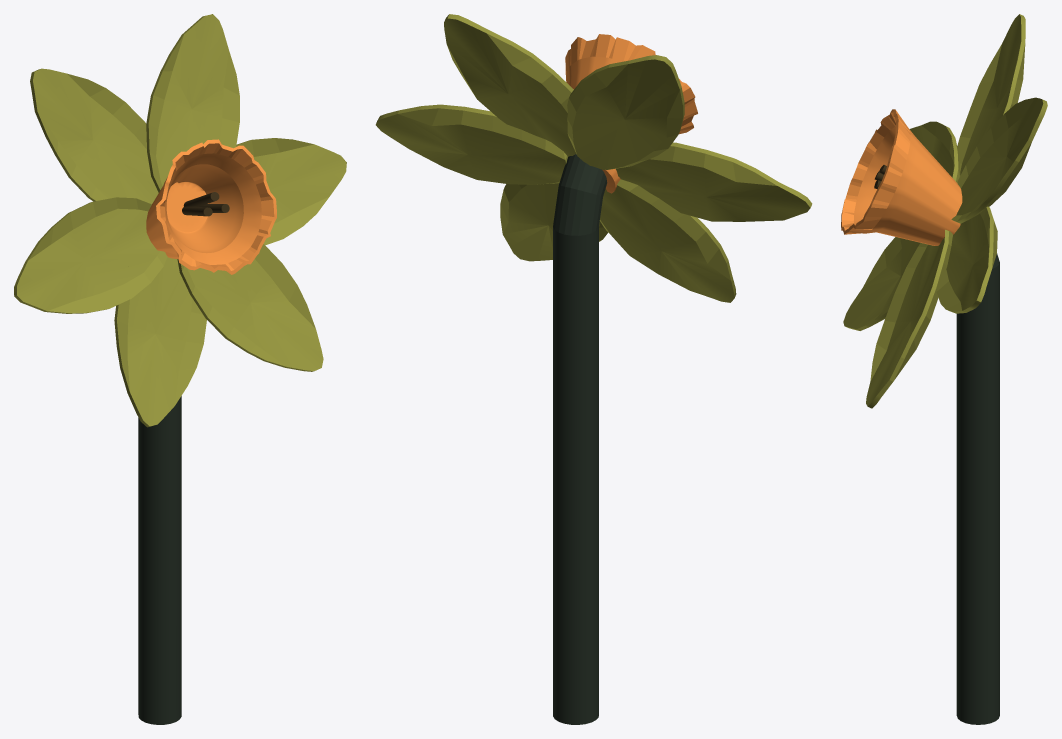
The model's file is daffodil.obj.
3 renders of one model, left to right at view 1: azimuth 30°, elevation 25°; view 2: azimuth 150°, elevation 25°; view 3: azimuth 270°, elevation 25°, orthographic. The views are drawn at different scales.
Visible parts, largest first — view 1: daffodil stem, daffodil head petal84, daffodil pCylinder13 head, daffodil head petal85, daffodil head petal82, daffodil head petal83, daffodil head petal87, daffodil head petal86; view 2: daffodil stem, daffodil head petal85, daffodil head petal86, daffodil head petal82, daffodil head petal84, daffodil head petal87, daffodil head petal83, daffodil pCylinder13 head; view 3: daffodil stem, daffodil pCylinder13 head, daffodil head petal83, daffodil head petal82, daffodil head petal85, daffodil head petal86, daffodil head petal87, daffodil head petal84.
Part boxes in pixels (left/top/right/bottom): daffodil stem: left=138, top=396, right=181, bottom=724; daffodil head petal84: left=14, top=197, right=167, bottom=313; daffodil pCylinder13 head: left=146, top=139, right=276, bottom=274; daffodil head petal85: left=30, top=68, right=158, bottom=204; daffodil head petal82: left=146, top=14, right=239, bottom=192; daffodil head petal83: left=177, top=244, right=323, bottom=371; daffodil head petal87: left=114, top=257, right=206, bottom=427; daffodil head petal86: left=236, top=138, right=346, bottom=245; daffodil stem: left=553, top=154, right=607, bottom=724; daffodil head petal85: left=567, top=55, right=684, bottom=169; daffodil head petal86: left=375, top=104, right=567, bottom=184; daffodil head petal82: left=444, top=14, right=575, bottom=156; daffodil head petal84: left=616, top=142, right=812, bottom=221; daffodil head petal87: left=599, top=179, right=736, bottom=302; daffodil head petal83: left=500, top=183, right=607, bottom=261; daffodil pCylinder13 head: left=565, top=34, right=697, bottom=193; daffodil stem: left=956, top=253, right=999, bottom=724; daffodil pCylinder13 head: left=841, top=109, right=962, bottom=245; daffodil head petal83: left=866, top=229, right=952, bottom=408; daffodil head petal82: left=951, top=97, right=1047, bottom=223; daffodil head petal85: left=957, top=14, right=1025, bottom=175; daffodil head petal86: left=936, top=206, right=997, bottom=313; daffodil head petal87: left=843, top=237, right=920, bottom=330; daffodil head petal84: left=909, top=121, right=960, bottom=182.
Size of the model in its own units: 2.45 by 4.17 by 1.2.
